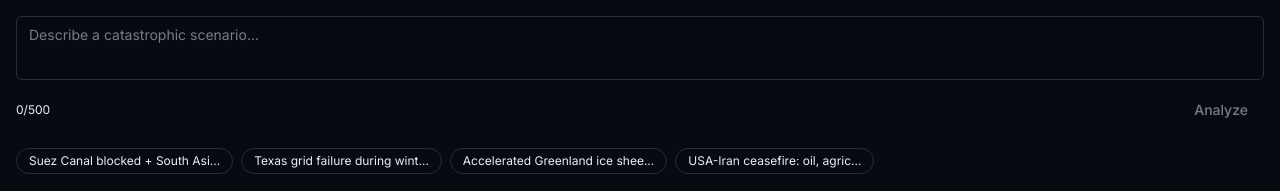
Scenario: ScenarioInput › updates character count on input
In the text box with placeholder "Describe a catastrophic scenario...": (640, 48) [16,16,1264,80], type "Hello world"
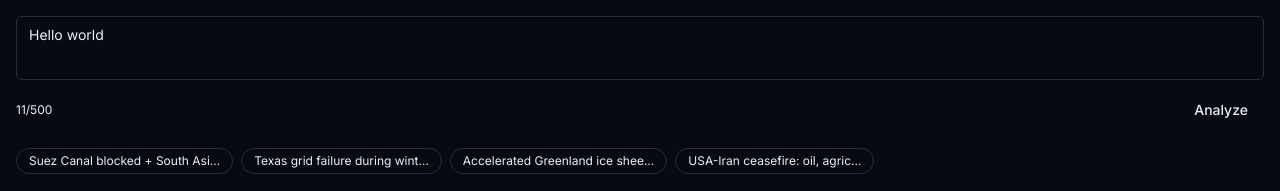
Result: the text "11/500" is shown at [16,102,52,118]
